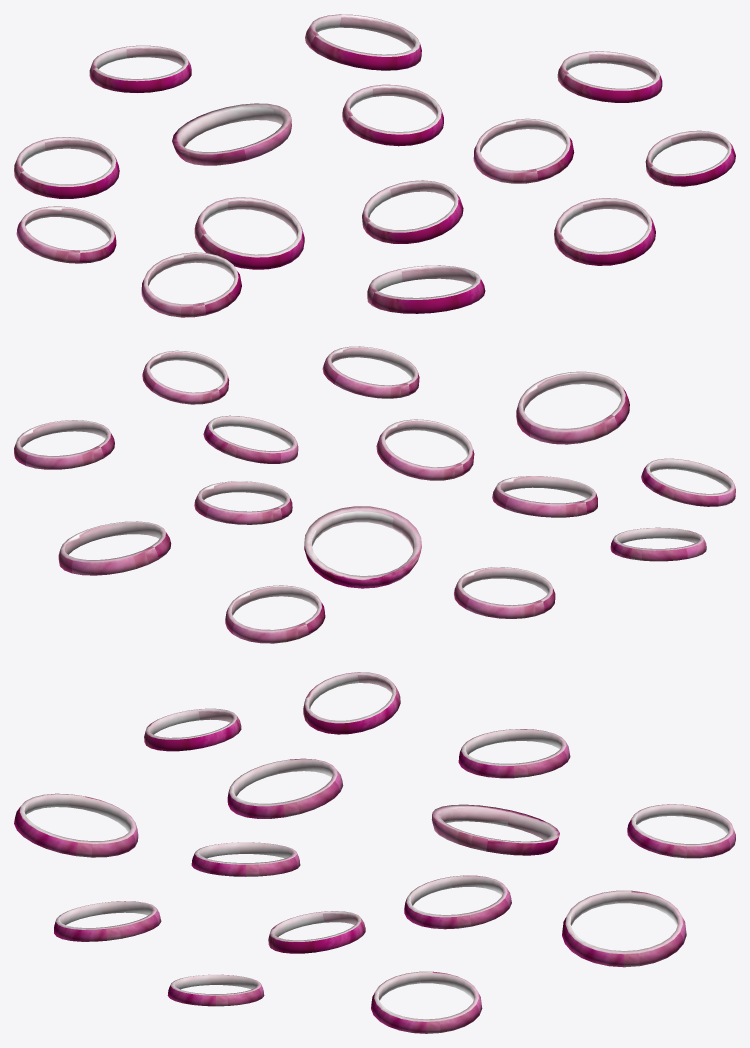
Rendered from onion_topping.fbx.
3 views of the same model, one above another, from view 1: azimuth 30°, elevation 25°; view 2: azimuth 150°, elevation 25°; view 3: azimuth 270°, elevation 25° (orthographic). The views are drawn at different scales.
Visible parts, largest first — view 1: onion.008, onion.003, onion.004, onion.002, onion, onion.006, onion.005, onion.011, onion.010, onion.009, onion.013, onion.001 (+2 smaller); view 2: onion.008, onion.004, onion.003, onion.002, onion, onion.009, onion.006, onion.011, onion.005, onion.010, onion.013, onion.001 (+2 smaller); view 3: onion.003, onion.008, onion.004, onion.002, onion.006, onion, onion.009, onion.010, onion.005, onion.011, onion.012, onion.013 (+2 smaller).
Part boxes in pixels (x1,y1,x2,y2): onion.008: (172, 103, 291, 165); onion.003: (305, 14, 421, 70); onion.004: (367, 265, 485, 313); onion.002: (194, 197, 304, 269); onion: (14, 137, 119, 198); onion.006: (557, 51, 662, 102); onion.005: (554, 198, 655, 265); onion.011: (362, 180, 463, 243); onion.010: (342, 84, 443, 146); onion.009: (89, 45, 191, 92); onion.013: (141, 252, 241, 317); onion.001: (473, 118, 574, 183); onion.008: (304, 506, 421, 588); onion.004: (516, 371, 629, 444); onion.003: (58, 521, 171, 575); onion.002: (492, 476, 597, 517); onion: (454, 567, 555, 618); onion.009: (225, 585, 325, 643); onion.006: (14, 420, 114, 469); onion.011: (376, 419, 474, 480); onion.005: (322, 346, 419, 398); onion.010: (194, 481, 292, 524); onion.013: (641, 458, 735, 506); onion.001: (203, 415, 298, 463); onion.003: (562, 890, 686, 967); onion.008: (431, 804, 559, 855); onion.004: (14, 793, 138, 857); onion.002: (227, 758, 343, 818); onion.006: (371, 971, 482, 1033); onion: (458, 729, 570, 778); onion.009: (627, 804, 735, 858); onion.010: (404, 875, 511, 929); onion.005: (54, 901, 161, 941); onion.011: (191, 842, 300, 876); onion.012: (303, 672, 400, 734); onion.013: (144, 708, 241, 751).
Size of the model in its own units: 56.81 by 3.33 by 52.16.
14 materials, 14 textured.
